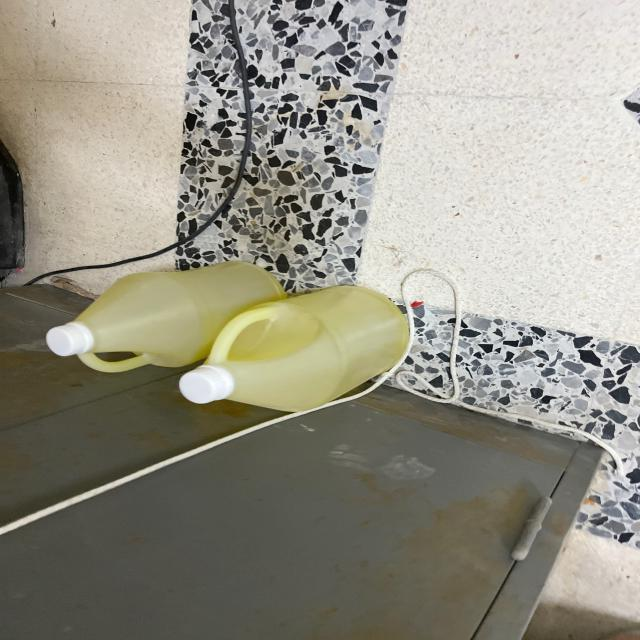HDPE Plastic: (179, 285, 413, 416), (46, 263, 288, 389)
